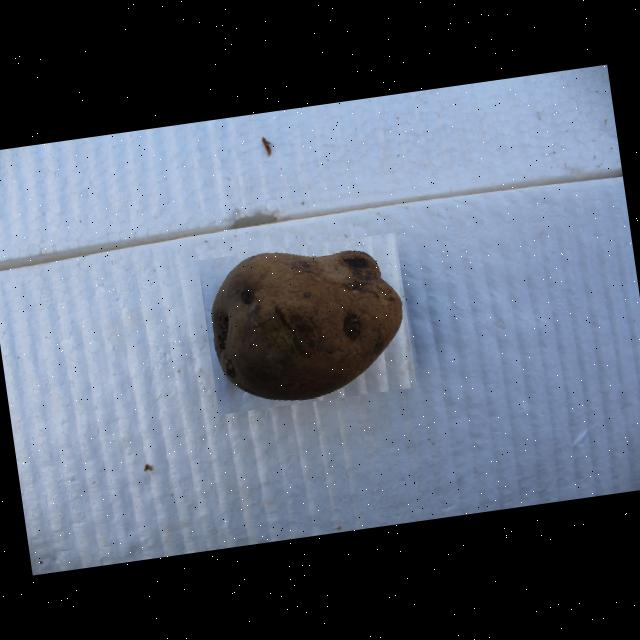Diseased-fungal potato: (198, 233, 418, 415)
